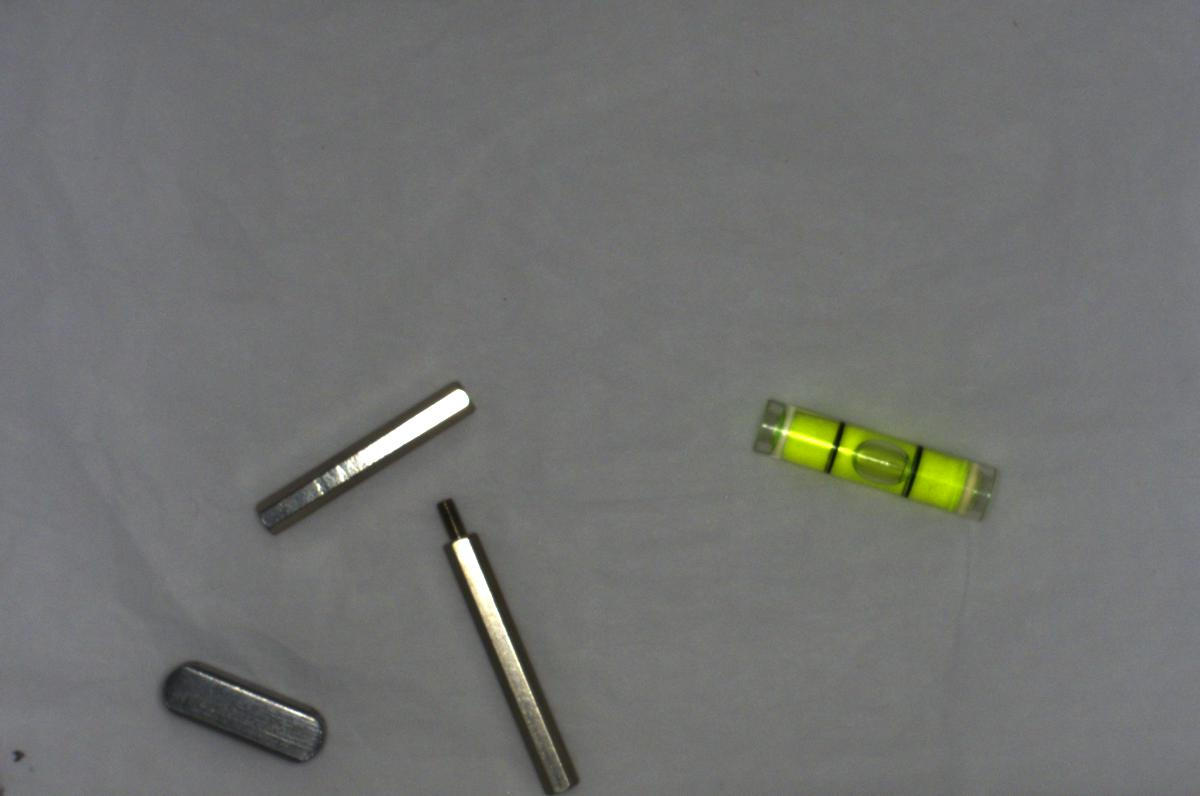Double hexagonal column: (252, 372, 486, 535)
Hexagonal steel column: (427, 494, 579, 790)
Horizontal bubble: (741, 388, 1001, 529)
Keybar: (164, 659, 337, 768)
